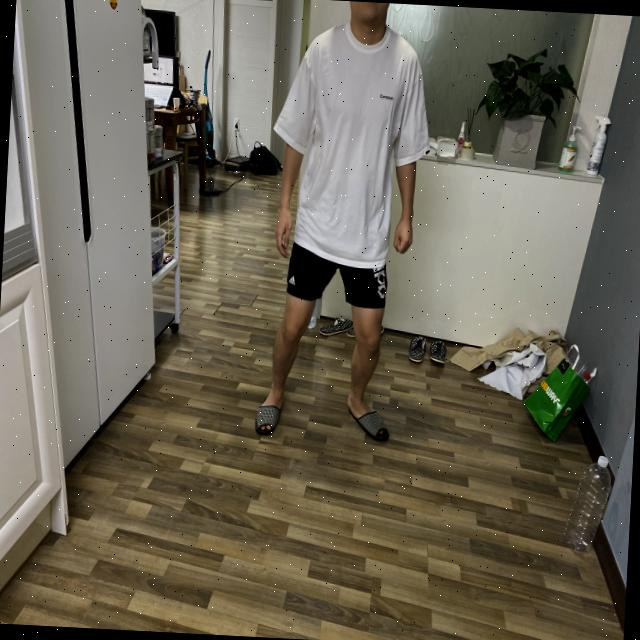no-boots: (338, 385, 400, 454), (248, 385, 294, 441)
